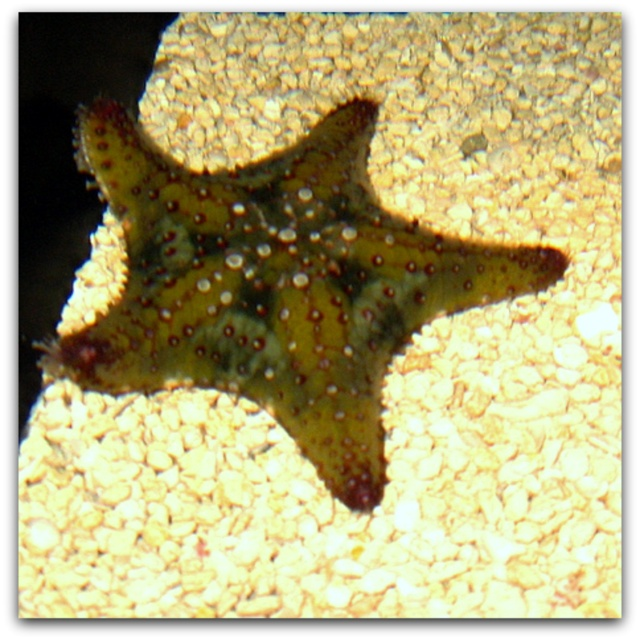Fish: (33, 84, 574, 514)
